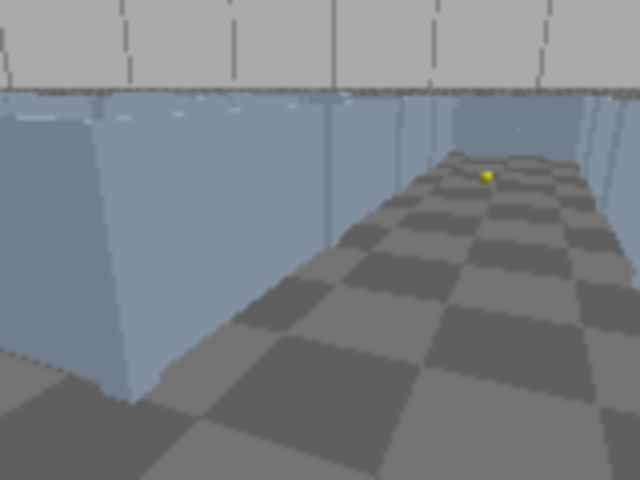puck: (476, 171, 495, 185)
